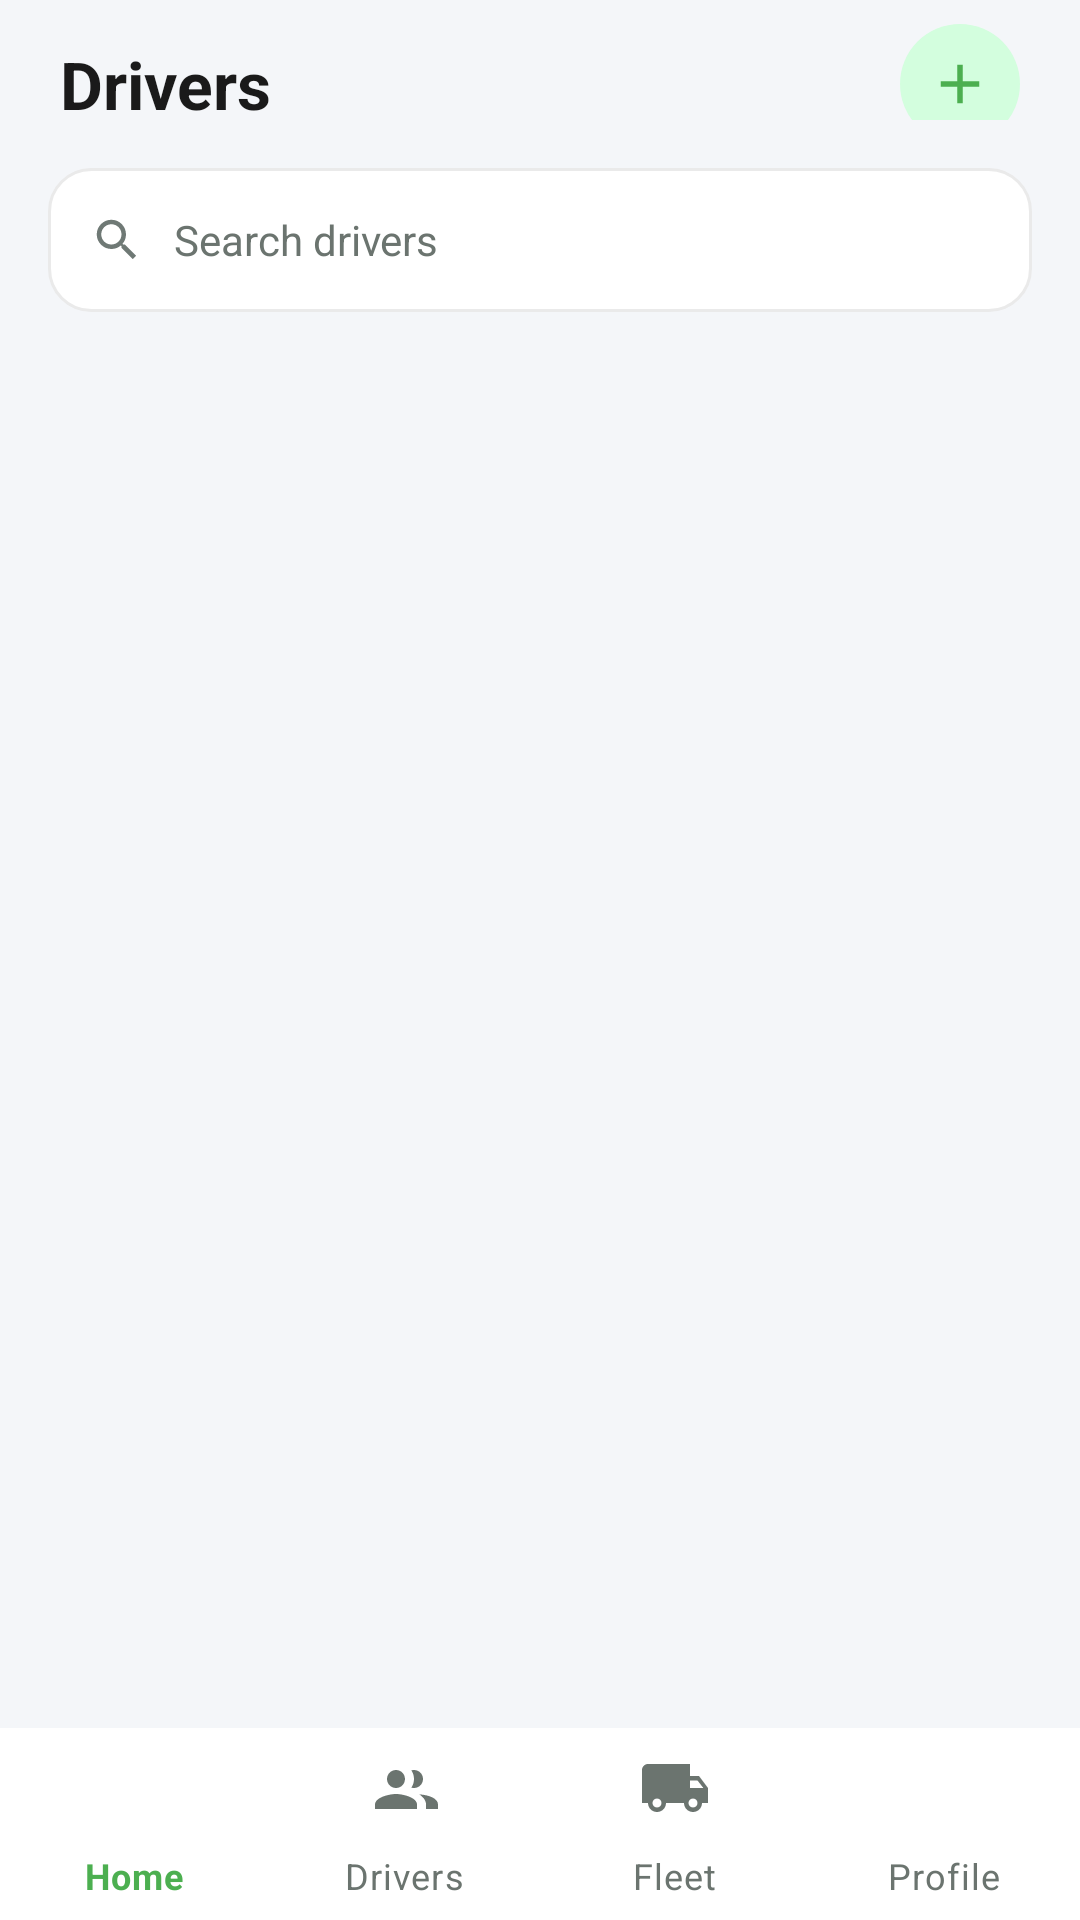

Named icons in this screenshot (1080px x 1920px) and their centers, [x,y]:
add: [960,72]
